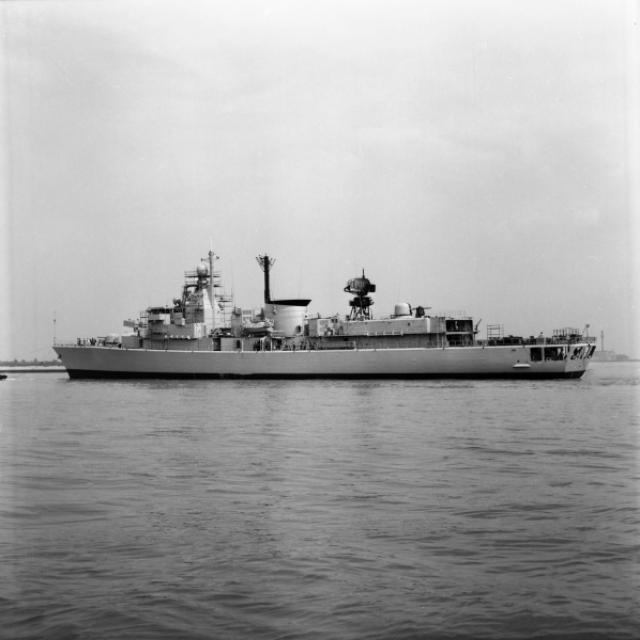Fragata: (48, 237, 605, 384)
